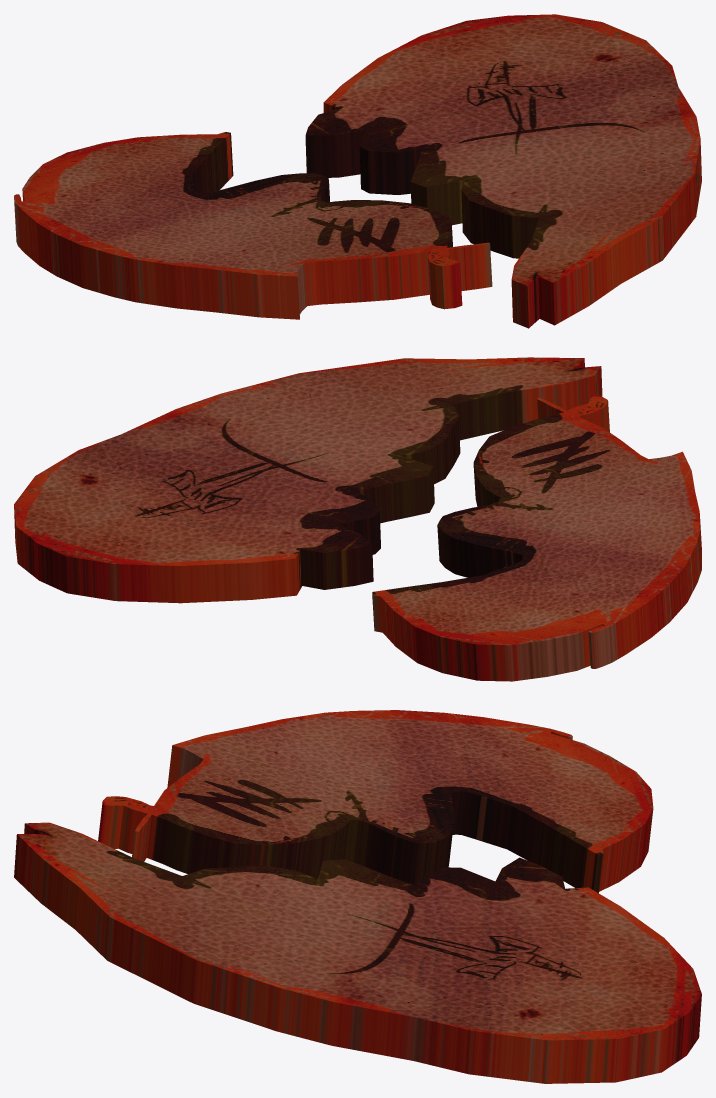
Rendered from Heart FBX.fbx.
3 renders of one model, top to bottom at view 1: azimuth 30°, elevation 25°; view 2: azimuth 150°, elevation 25°; view 3: azimuth 270°, elevation 25°, orthographic. The views are drawn at different scales.
Parts seen in each view (by area): view 1: heartRight, heartLeft; view 2: heartRight, heartLeft; view 3: heartRight, heartLeft.
Part boxes in pixels (box(x1,y1,x2,y2)): heartRight: box(305, 14, 701, 328); heartLeft: box(14, 132, 492, 319); heartRight: box(14, 357, 602, 603); heartLeft: box(372, 395, 701, 681); heartRight: box(14, 822, 701, 1083); heartLeft: box(98, 710, 653, 893).
Bounding box in the file's own units: 2.73 × 0.3685 × 2.42.
2 materials, 2 textured.
